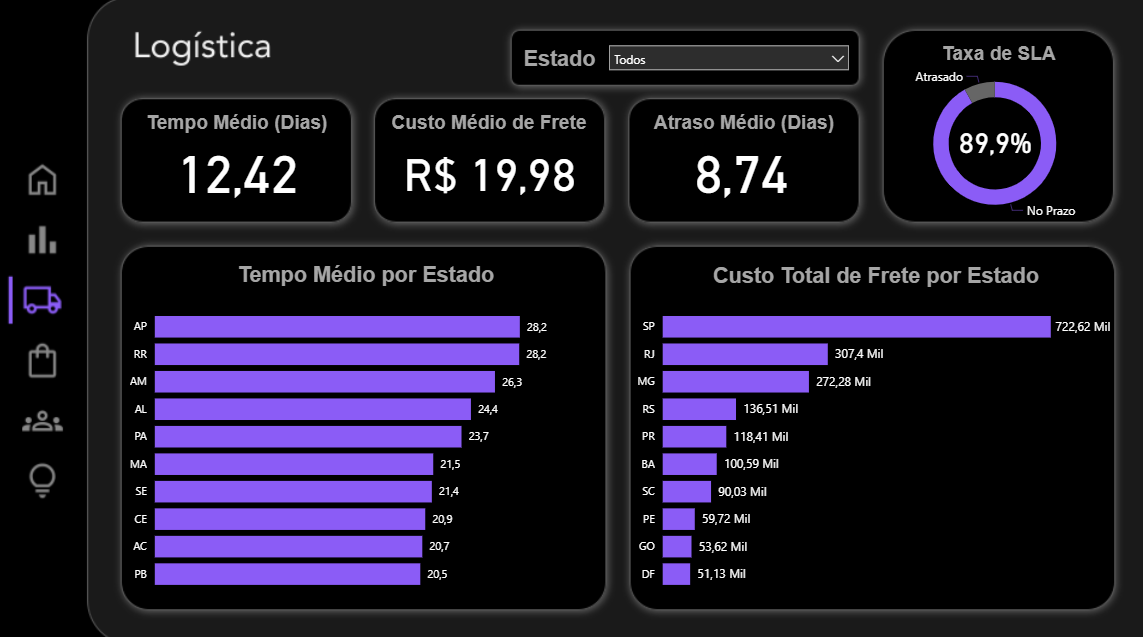

What the dashboard file says about the page in this screenshot:
{"tool":"powerbi","page":{"name":"Logística","canvas":[1280,720],"ordinal":2},"visuals":[{"type":"donutChart","fields":{"Category":["olist vw_pedidos_detalhe.status_sla"],"Y":["Tabela de Medidas.Total de Pedidos"]},"box":[976.7,60,263.3,200],"z":0},{"type":"clusteredBarChart","fields":{"Category":["olist vw_pedidos_detalhe.estado_cliente"],"Y":["Tabela de Medidas.Tempo Medio Entrega"]},"box":[140,326.7,543.3,341.7],"z":1000},{"type":"clusteredBarChart","fields":{"Category":["olist vw_pedidos_detalhe.estado_cliente"],"Y":["Tabela de Medidas.Custo Total de Frete"]},"box":[703.3,326.7,538.3,341.7],"z":2000},{"type":"card","fields":{"Values":["Tabela de Medidas.Taxa SLA"]},"box":[1015,113.3,188.3,88.3],"z":3000},{"type":"slicer","fields":{"Values":["olist vw_pedidos_detalhe.estado_cliente"]},"box":[670,41.7,286.7,55],"z":4000},{"type":"textbox","box":[553.3,46.7,143.3,46.7],"z":5000},{"type":"card","fields":{"Values":["Tabela de Medidas.Tempo Medio Entrega"]},"box":[130,125,273.3,125],"z":6000},{"type":"textbox","box":[123.3,120,286.7,38.3],"z":7000},{"type":"card","fields":{"Values":["Tabela de Medidas.Custo Medio de Frete"]},"box":[411.7,126.7,271.7,125],"z":8000},{"type":"textbox","box":[403.3,120,286.7,38.3],"z":9000},{"type":"textbox","box":[687,120.7,286.7,38.3],"z":10000},{"type":"card","fields":{"Values":["Tabela de Medidas.Média Dias Atraso"]},"box":[690,125,273.3,125],"z":11000},{"type":"textbox","box":[151.7,286.7,516.7,38.3],"z":12000},{"type":"textbox","box":[718.3,288.3,516.7,38.3],"z":13000},{"type":"textbox","box":[970,43.3,286.7,38.3],"z":14000},{"type":"actionButton","box":[15,178.8,70,48.8],"z":15000},{"type":"actionButton","box":[15,240,70,51.2],"z":16000},{"type":"actionButton","box":[15,307.5,70,48.8],"z":17000},{"type":"actionButton","box":[15,378.8,70,48.8],"z":18000},{"type":"actionButton","box":[15,447.5,70,48.8],"z":19000},{"type":"actionButton","box":[15,512.5,70,48.8],"z":20000}]}

Visuals, with their boxes on the page's 1280x720 design canvas (x1, y1, x2, y2). These are canvas units, not pixel positions in the 1143x637 screenshot, which may show the page scaled, cropped or inside an application window:
donutChart - olist vw_pedidos_detalhe.status_sla x Tabela de Medidas.Total de Pedidos: x1=977, y1=60, x2=1240, y2=260
clusteredBarChart - olist vw_pedidos_detalhe.estado_cliente x Tabela de Medidas.Tempo Medio Entrega: x1=140, y1=327, x2=683, y2=668
clusteredBarChart - olist vw_pedidos_detalhe.estado_cliente x Tabela de Medidas.Custo Total de Frete: x1=703, y1=327, x2=1242, y2=668
card - Tabela de Medidas.Taxa SLA: x1=1015, y1=113, x2=1203, y2=202
slicer - olist vw_pedidos_detalhe.estado_cliente: x1=670, y1=42, x2=957, y2=97
textbox: x1=553, y1=47, x2=697, y2=93
card - Tabela de Medidas.Tempo Medio Entrega: x1=130, y1=125, x2=403, y2=250
textbox: x1=123, y1=120, x2=410, y2=158
card - Tabela de Medidas.Custo Medio de Frete: x1=412, y1=127, x2=683, y2=252
textbox: x1=403, y1=120, x2=690, y2=158
textbox: x1=687, y1=121, x2=974, y2=159
card - Tabela de Medidas.Média Dias Atraso: x1=690, y1=125, x2=963, y2=250
textbox: x1=152, y1=287, x2=668, y2=325
textbox: x1=718, y1=288, x2=1235, y2=327
textbox: x1=970, y1=43, x2=1257, y2=82
actionButton: x1=15, y1=179, x2=85, y2=228
actionButton: x1=15, y1=240, x2=85, y2=291
actionButton: x1=15, y1=308, x2=85, y2=356
actionButton: x1=15, y1=379, x2=85, y2=428
actionButton: x1=15, y1=448, x2=85, y2=496
actionButton: x1=15, y1=512, x2=85, y2=561
